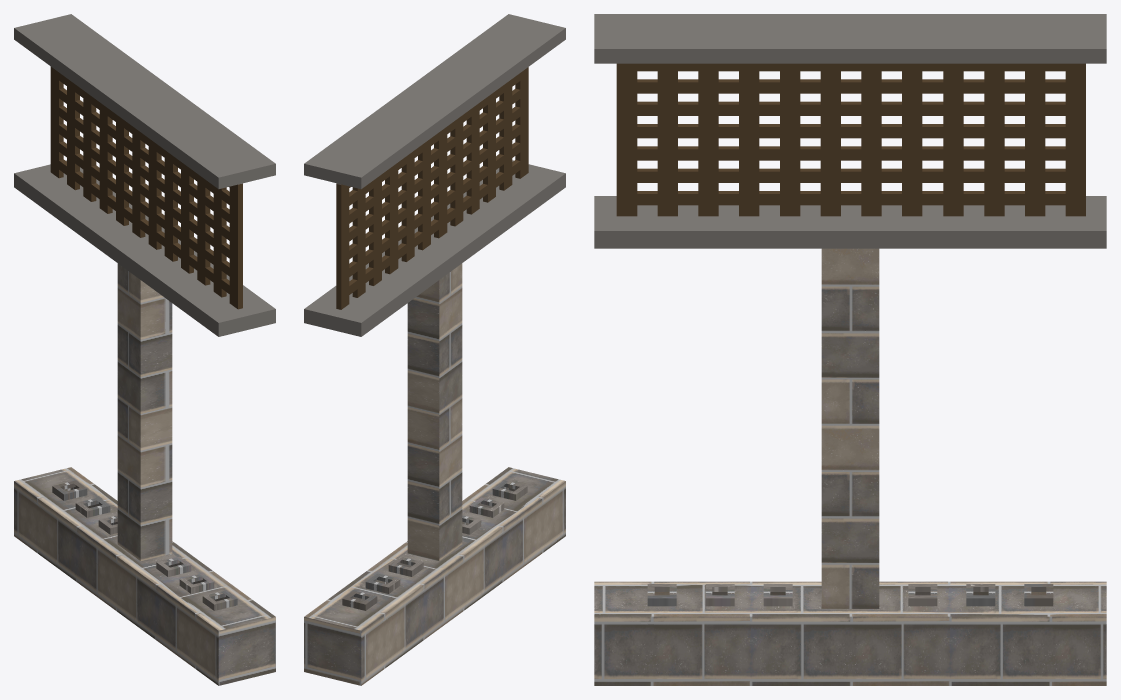
Rendered from 30_03_2020_window 1.fbx.
3 renders of one model, left to right at view 1: azimuth 30°, elevation 25°; view 2: azimuth 150°, elevation 25°; view 3: azimuth 270°, elevation 25°, orthographic. The views are drawn at different scales.
Parts seen in each view (by area): view 1: Cube; view 2: Cube; view 3: Cube.
Part boxes in pixels (left/top/right/bottom): Cube: left=14, top=14, right=275, bottom=685; Cube: left=304, top=14, right=565, bottom=685; Cube: left=594, top=14, right=1106, bottom=685.
Bounding box in the file's own units: 84 × 713 × 520.
